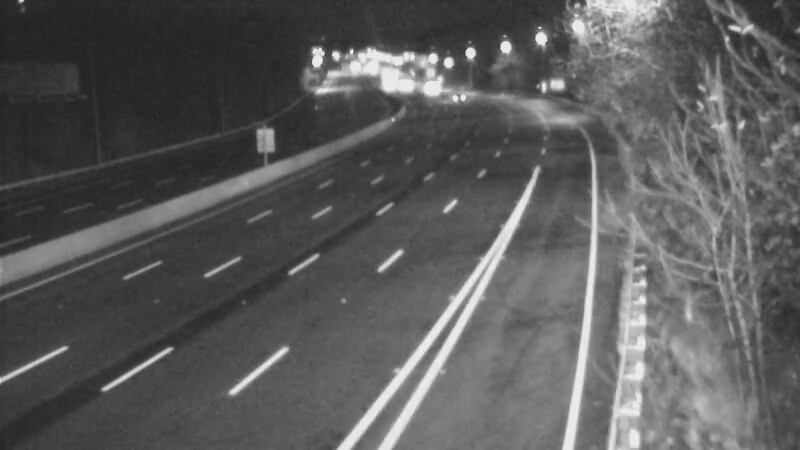vehicle: (405, 65, 455, 115), (428, 72, 478, 122)
